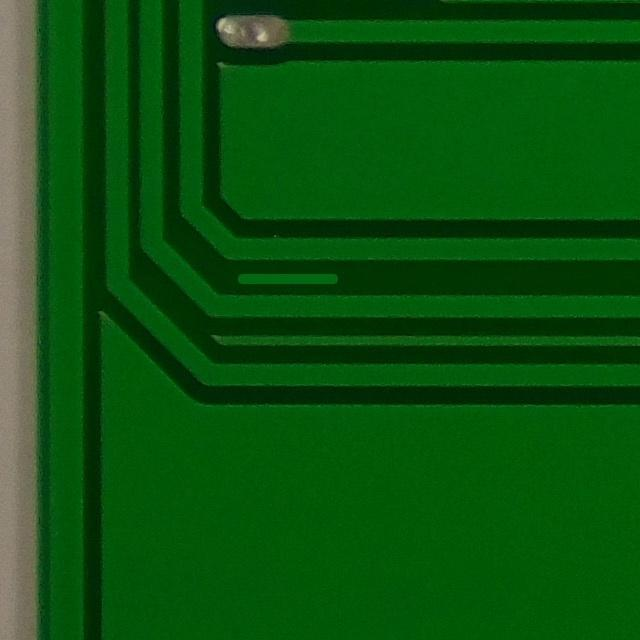spurious_copper: (227, 265, 347, 294)
